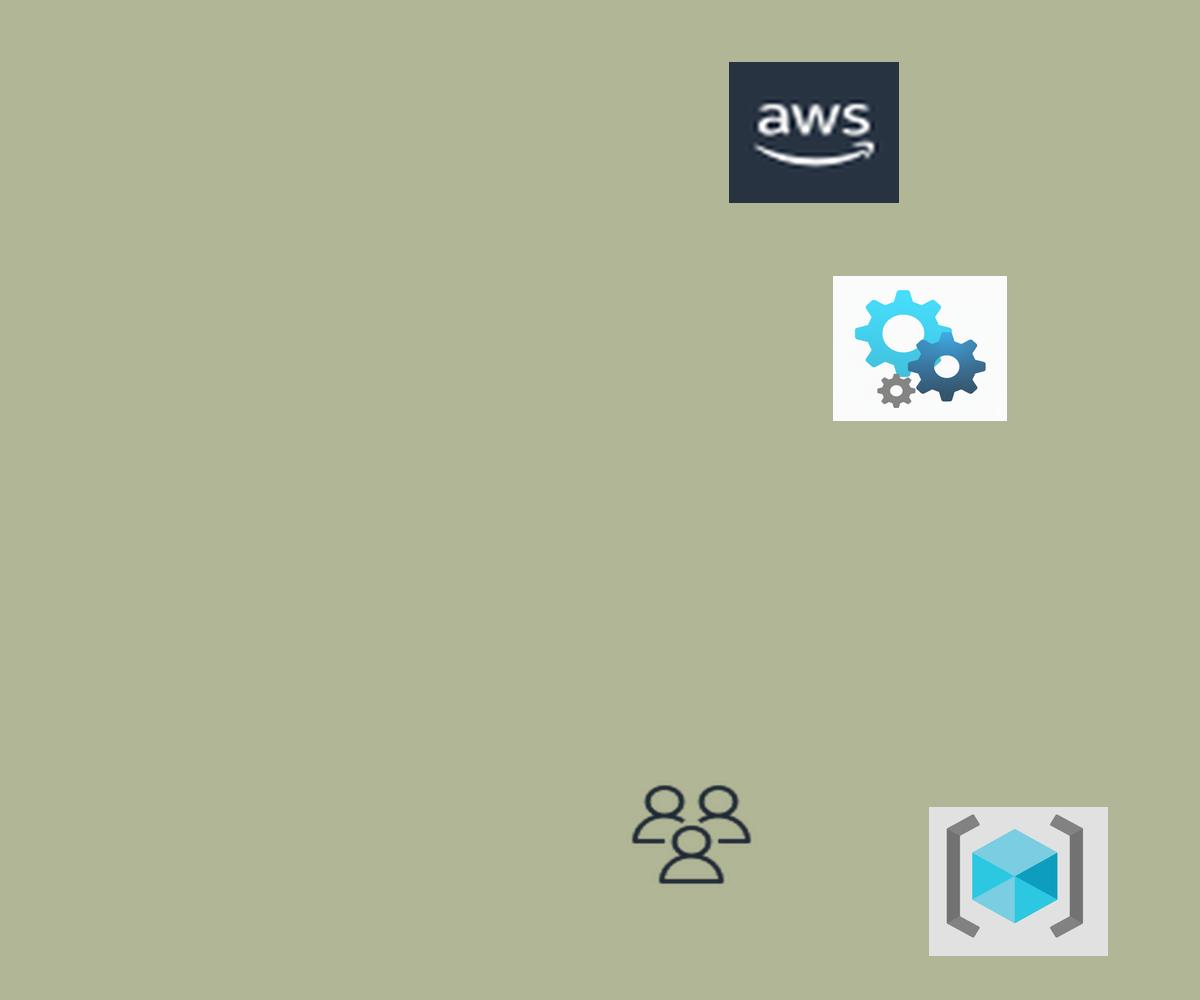AWS-Cloud-logo: (729, 62, 899, 203)
AWS-Res_Users: (627, 781, 756, 888)
Azure_api: (833, 276, 1007, 421)
Azure_resource_group: (929, 807, 1108, 956)
